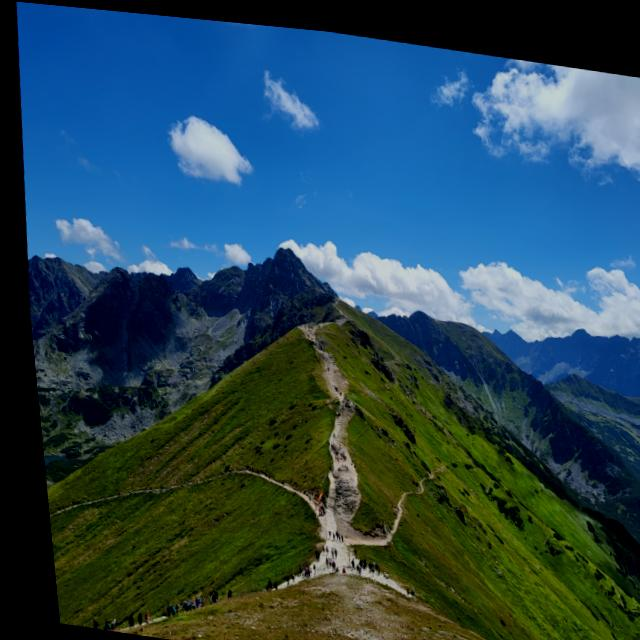Hruby vrch: (534, 292, 619, 376)
Koscielec: (75, 225, 161, 313)
Kozi Wierch: (151, 226, 217, 312)
Satanovo sedlo: (462, 293, 531, 366)
Skrajny i Posredni Granat: (22, 217, 84, 308)
Swinica: (220, 190, 353, 320)
